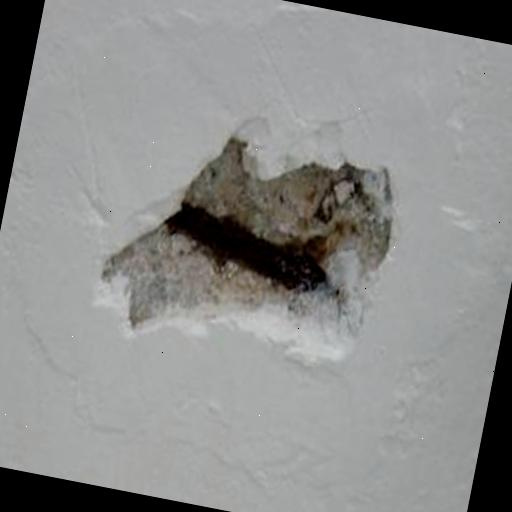spalling: (82, 104, 413, 398)
